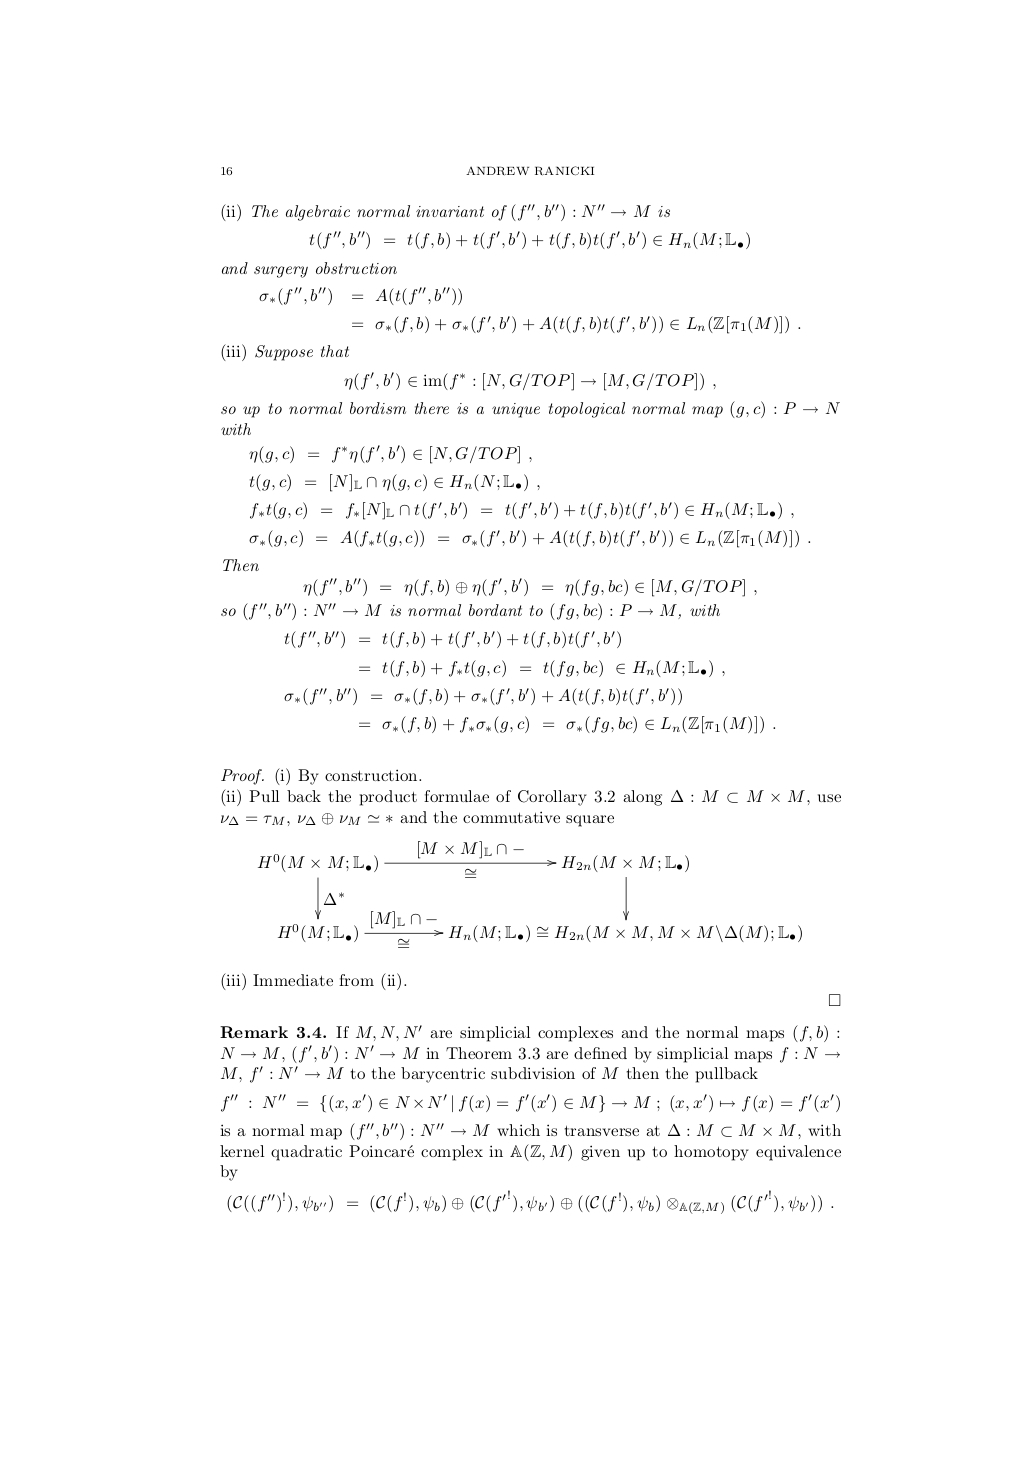formula: (257, 839, 801, 948), (227, 1189, 833, 1215), (221, 1092, 839, 1113), (249, 529, 810, 548), (250, 501, 793, 520), (221, 602, 719, 621), (303, 577, 756, 597), (309, 230, 749, 250), (352, 315, 800, 334), (359, 716, 775, 735), (284, 687, 681, 705), (344, 371, 715, 391), (359, 659, 724, 678), (284, 630, 620, 649), (249, 472, 539, 492), (249, 444, 531, 464), (259, 285, 461, 306)
